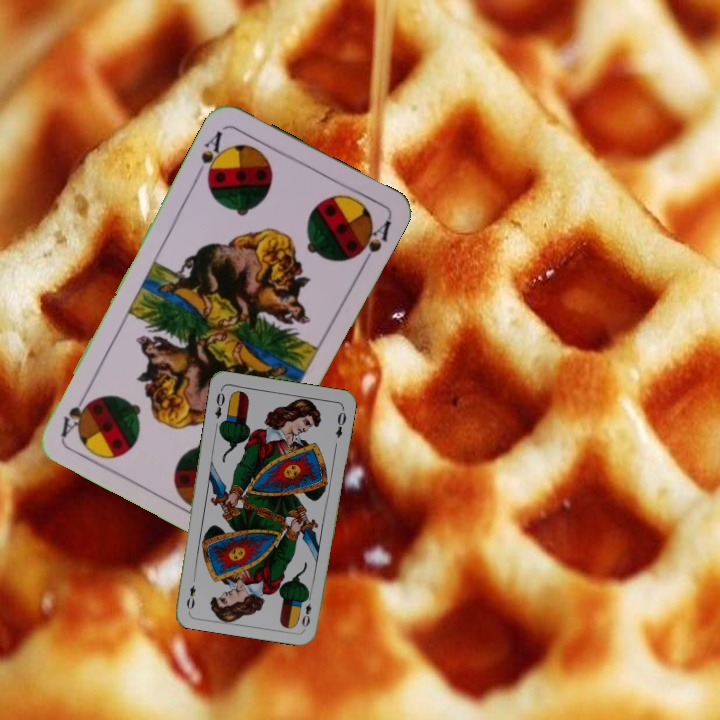EO: (298, 590, 314, 630), (211, 385, 227, 421)
SA: (197, 127, 228, 185)
